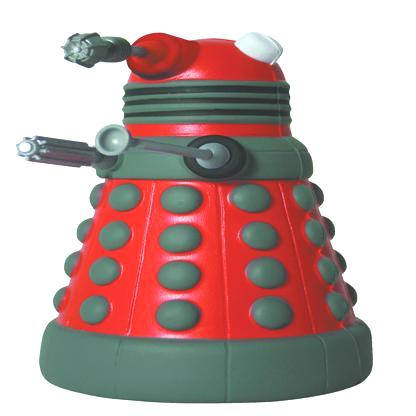dalek: (4, 0, 416, 412)
